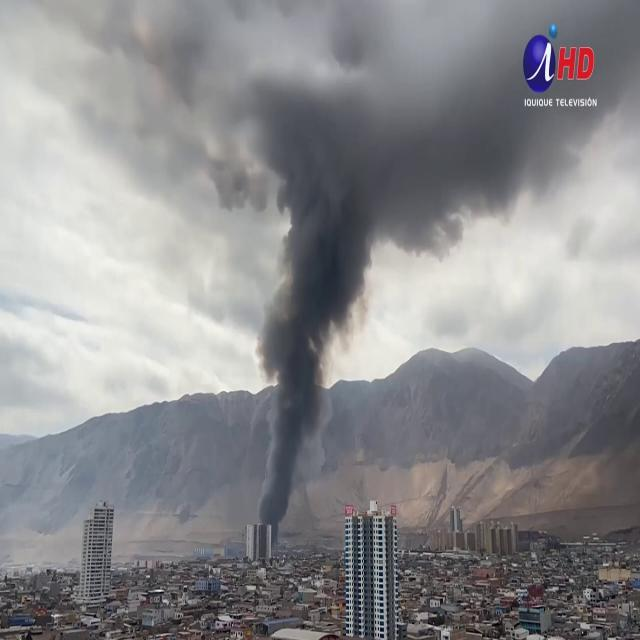Smoke: (98, 0, 631, 294), (254, 72, 391, 532)
